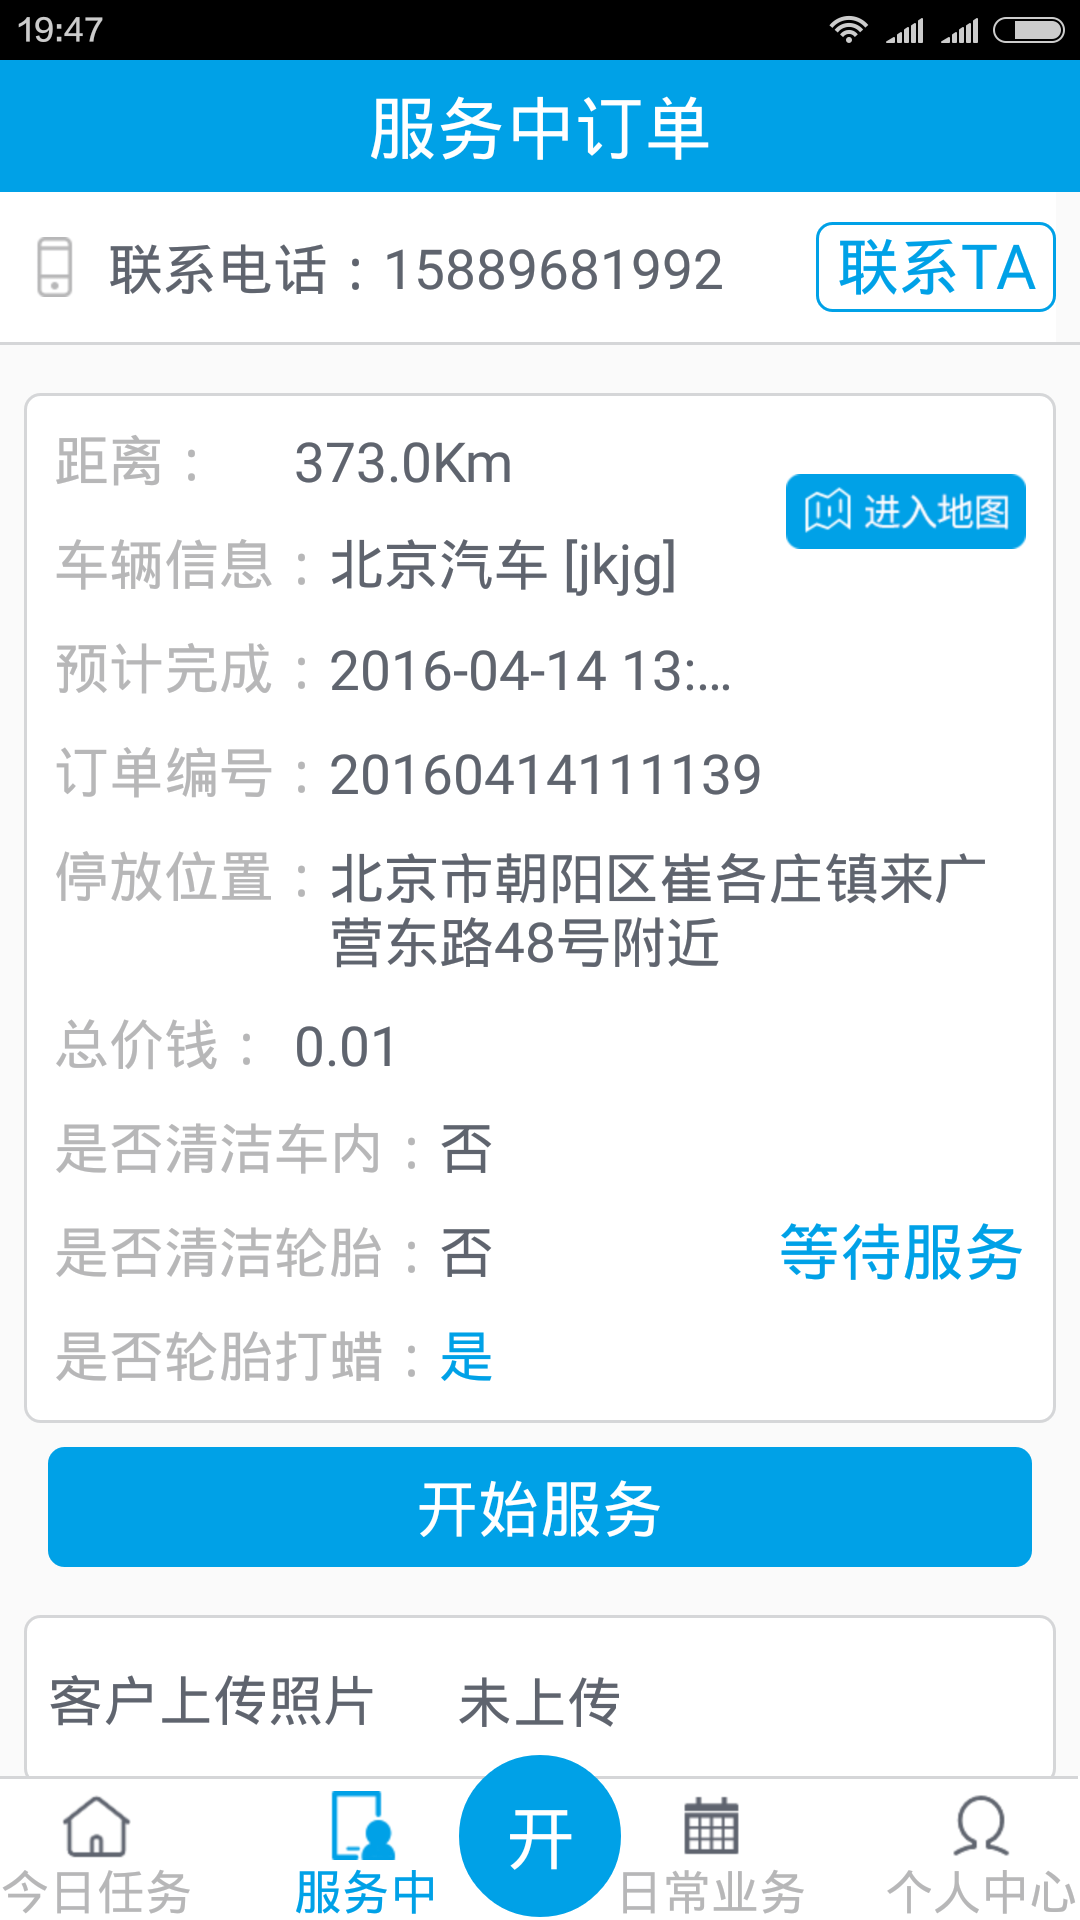button: (32, 1437, 1055, 1575)
